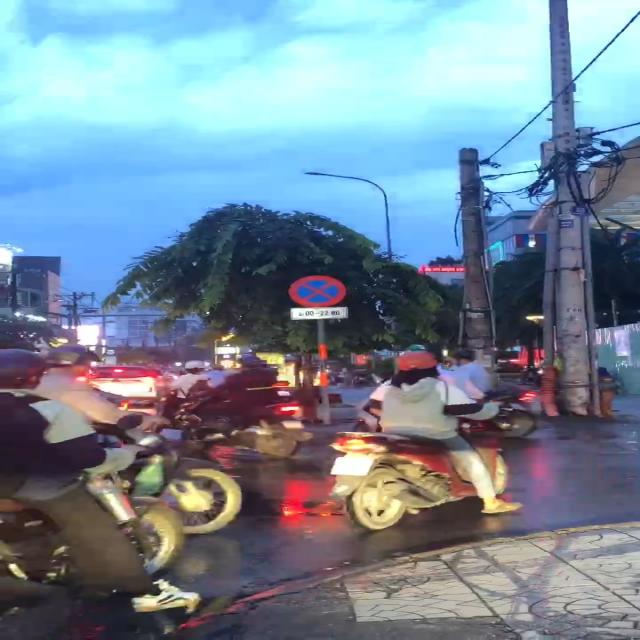Bien bao cam dung xe va do xe: (282, 271, 352, 308)
